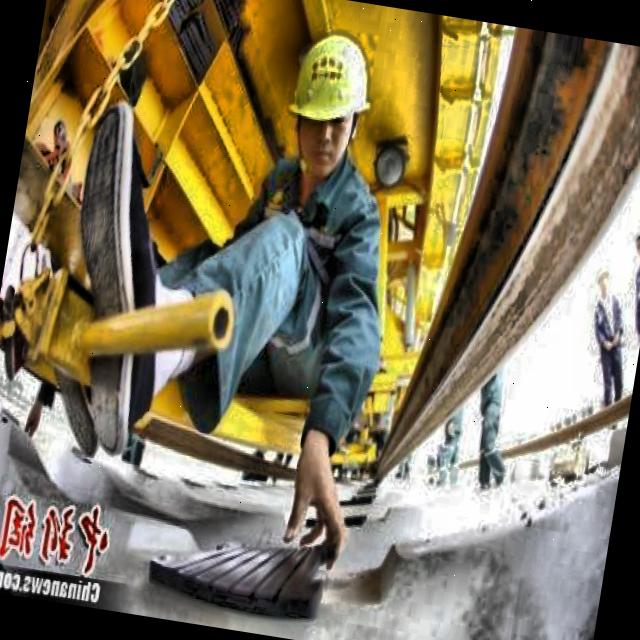helmet: (274, 12, 384, 192)
